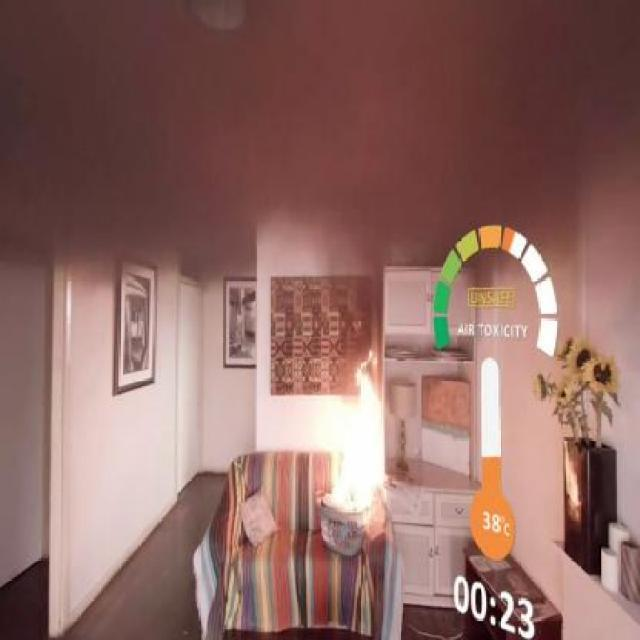fire: (308, 344, 397, 566)
